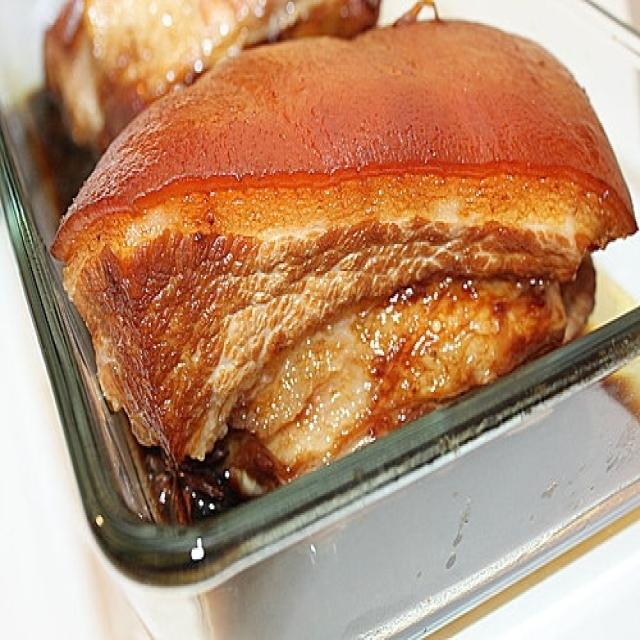牛肉菜式: (61, 15, 621, 517)
